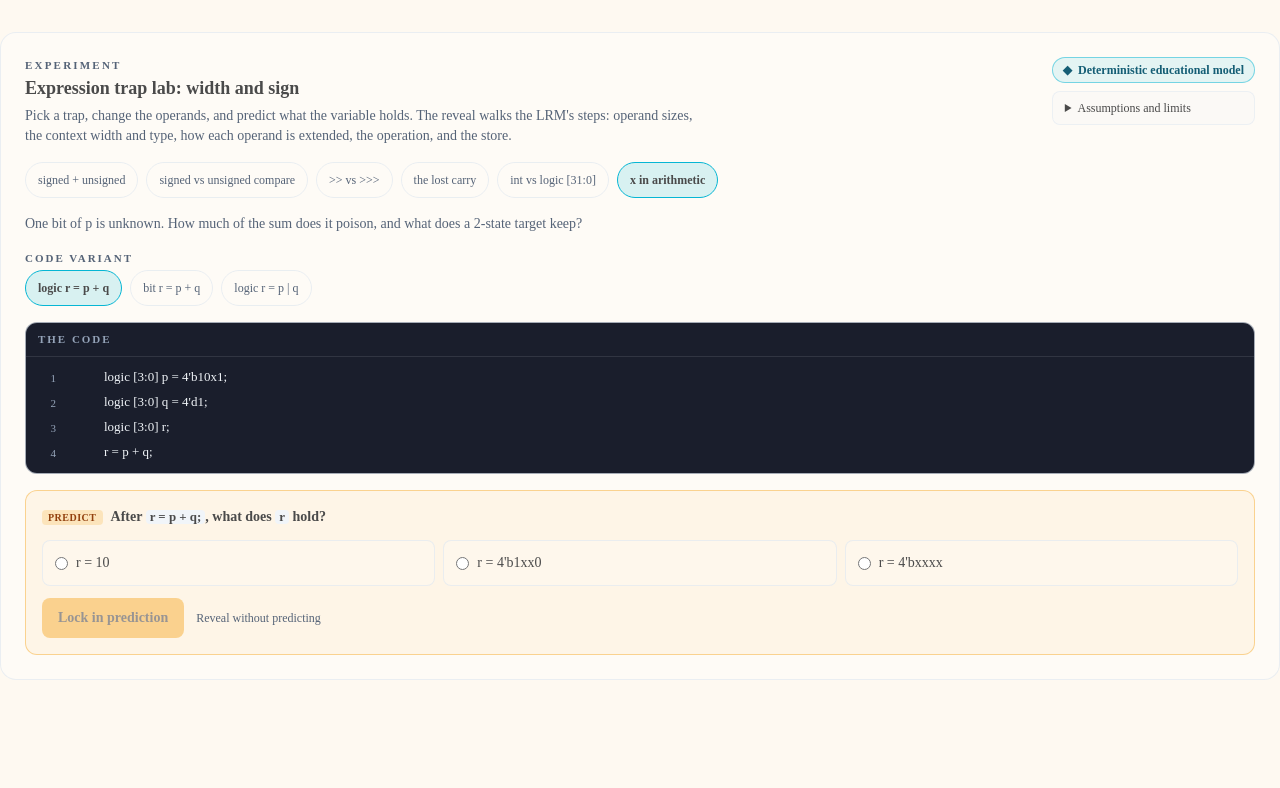
Test: SignednessVisualizer (expression trap lab) › x in arithmetic poisons the whole sum
Click the radio button labelled "r = 4'b1xx0": (463, 563) x1=456 y1=556 x2=469 y2=570
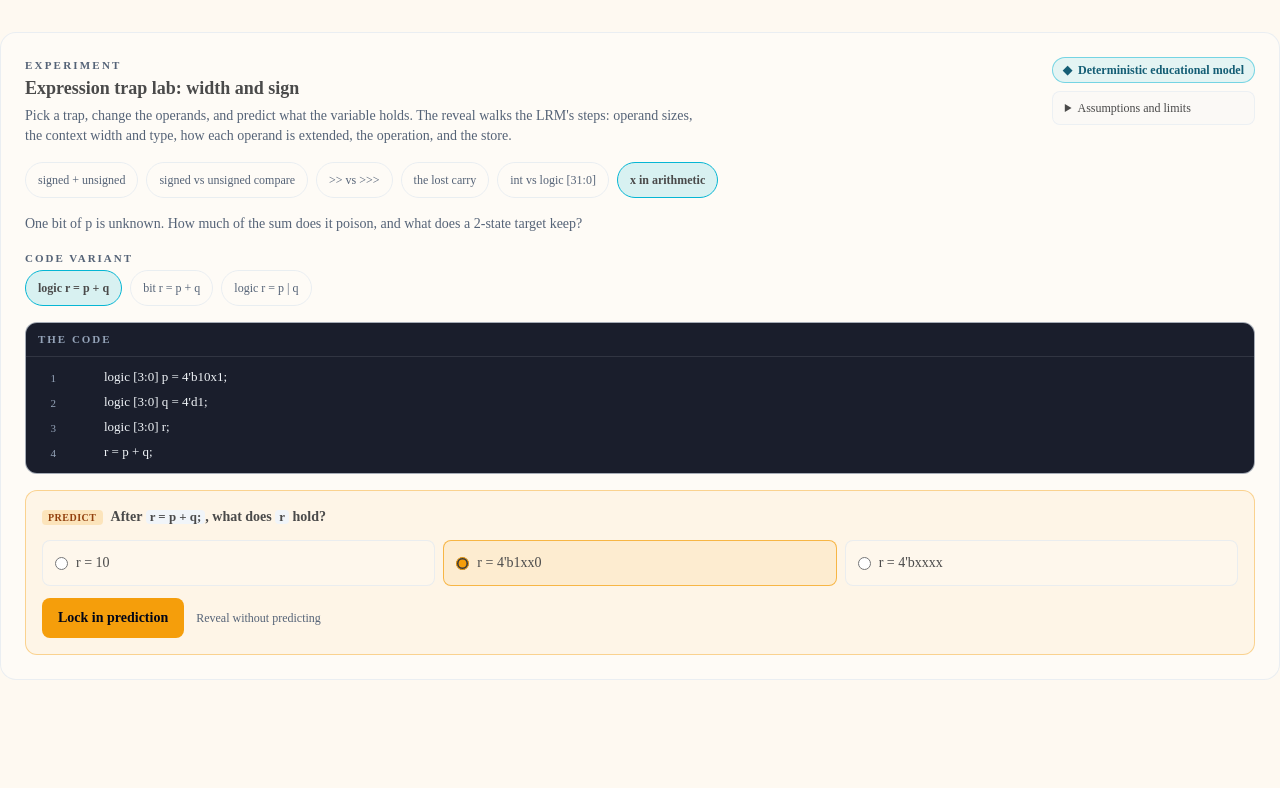
Click the button "Lock in prediction": (113, 618) x1=42 y1=598 x2=184 y2=638
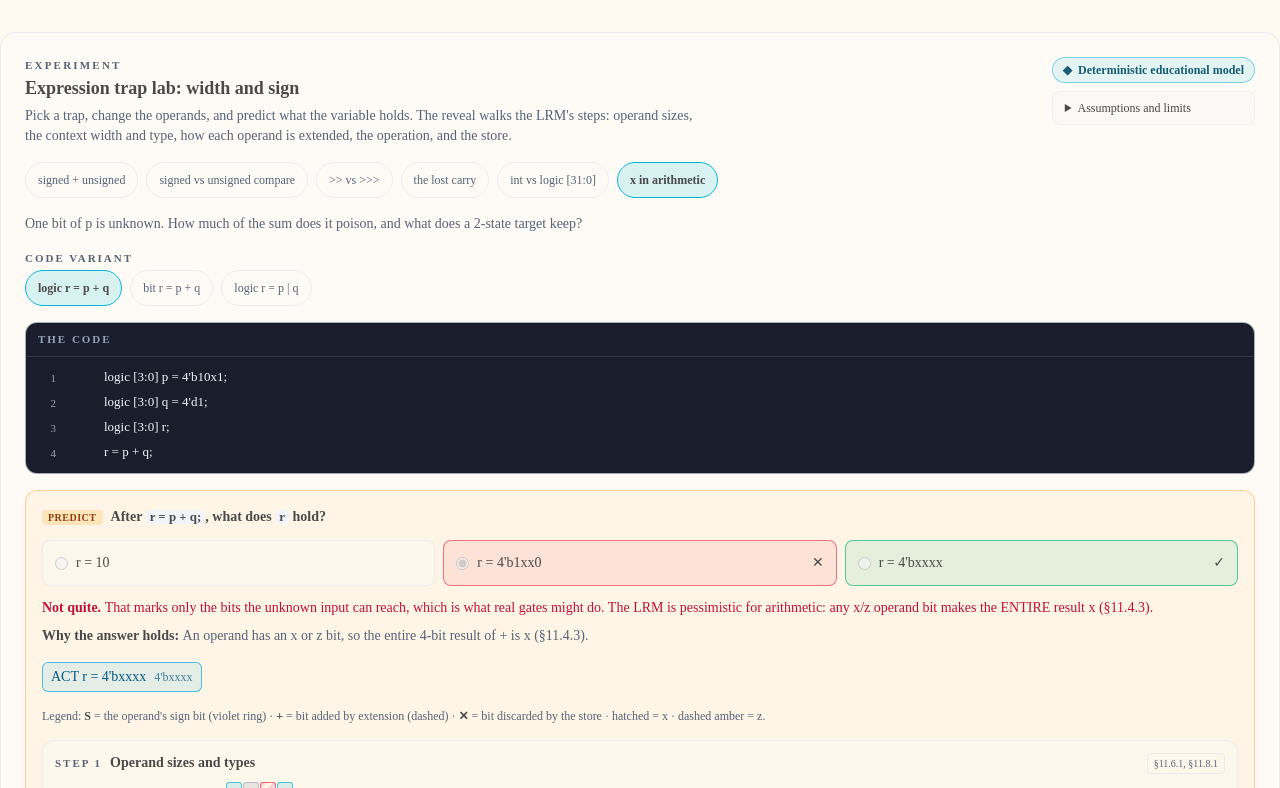
Now the text "ACT r = 4'bxxxx4'bxxxx" is shown, box x1=42 y1=662 x2=202 y2=692
